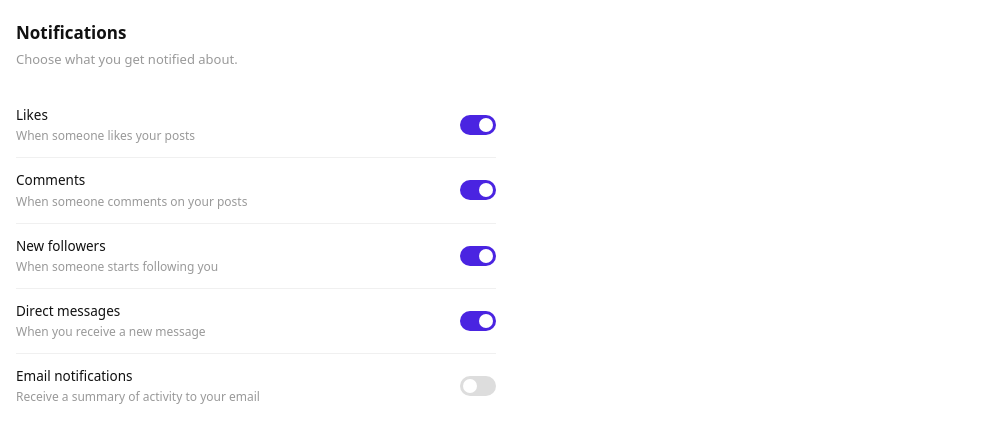
Test: NotificationsSection › reverts the toggle and shows an error toast when the save fails
Click the checkbox in the row of "When someone likes your posts".
click(478, 125)  # box [460, 115, 496, 135]
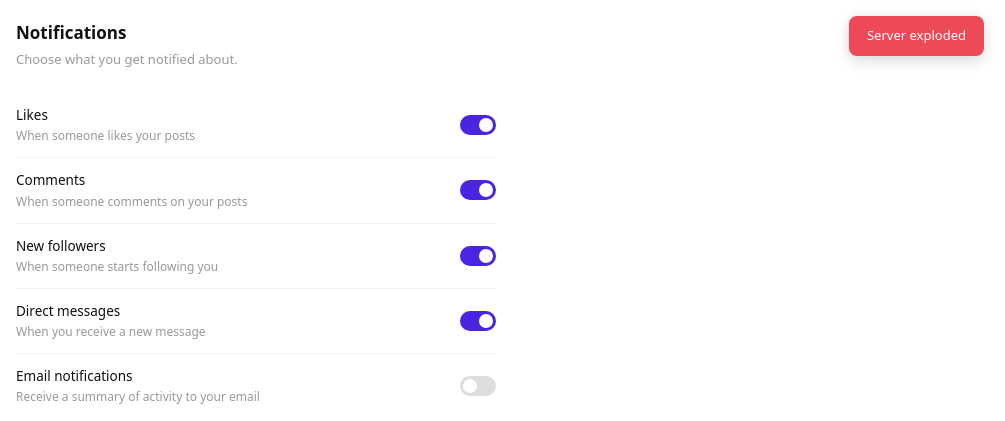
Expected: the text "Server exploded" is shown, [849, 16, 984, 56]
